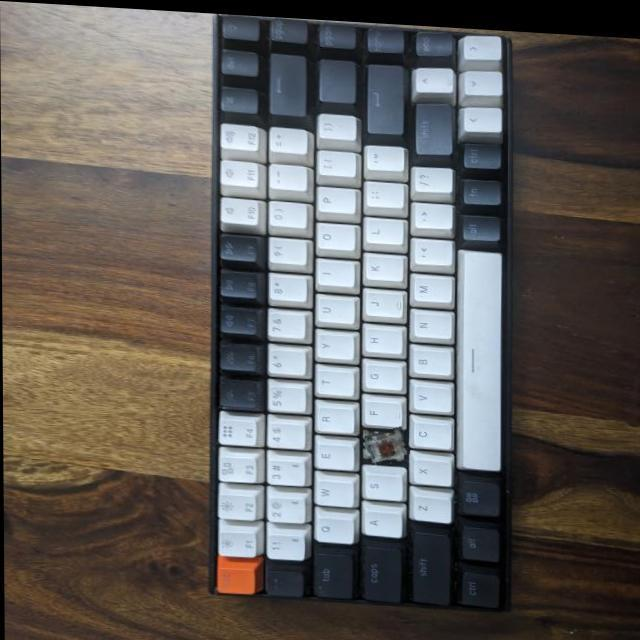key-switch: (365, 421, 408, 456)
